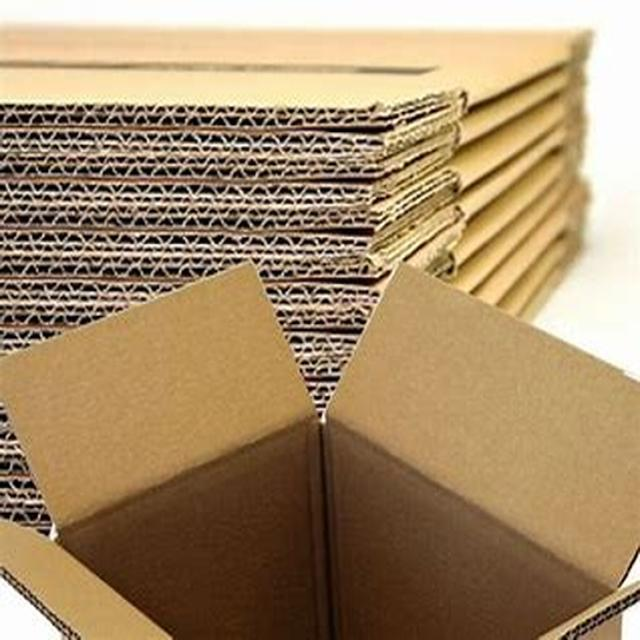box: (4, 258, 637, 640)
